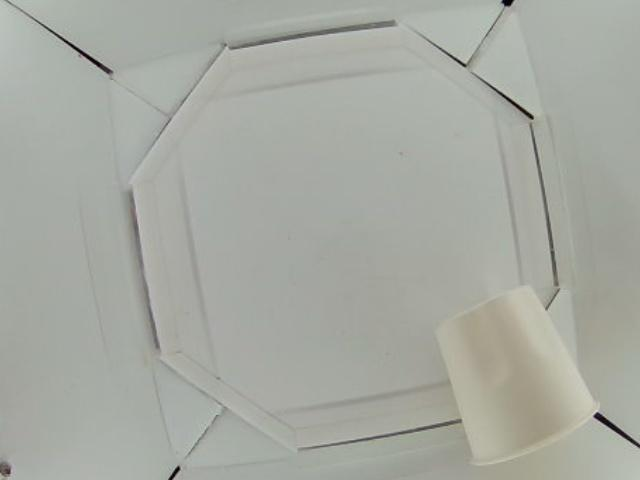Cup: (439, 284, 602, 463)
